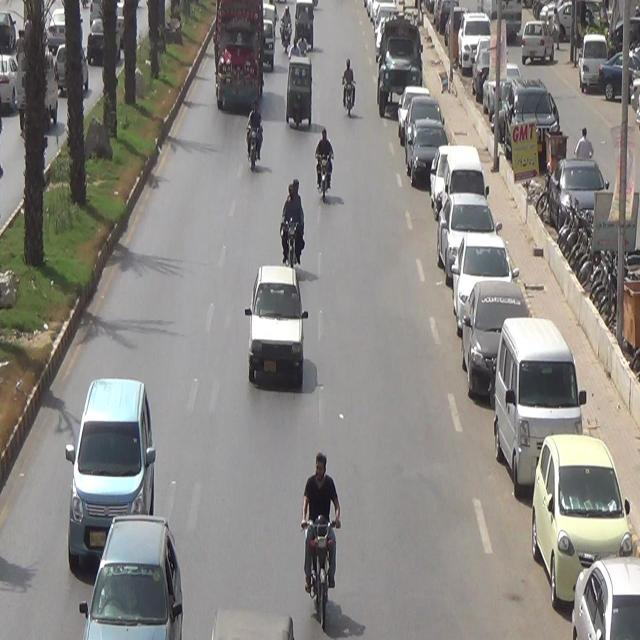car: (493, 316, 588, 501), (64, 379, 152, 578), (534, 435, 631, 610), (78, 509, 190, 640), (242, 260, 312, 397), (466, 278, 527, 399), (571, 547, 640, 639), (438, 191, 508, 271), (452, 237, 512, 318), (437, 150, 493, 200), (405, 121, 445, 183), (395, 85, 424, 136), (411, 94, 442, 122)
motorbike: (294, 444, 345, 635), (282, 172, 314, 272), (315, 128, 335, 212), (245, 96, 265, 180), (341, 48, 359, 122), (278, 2, 292, 54)
truck: (207, 0, 269, 113), (374, 8, 423, 124)
